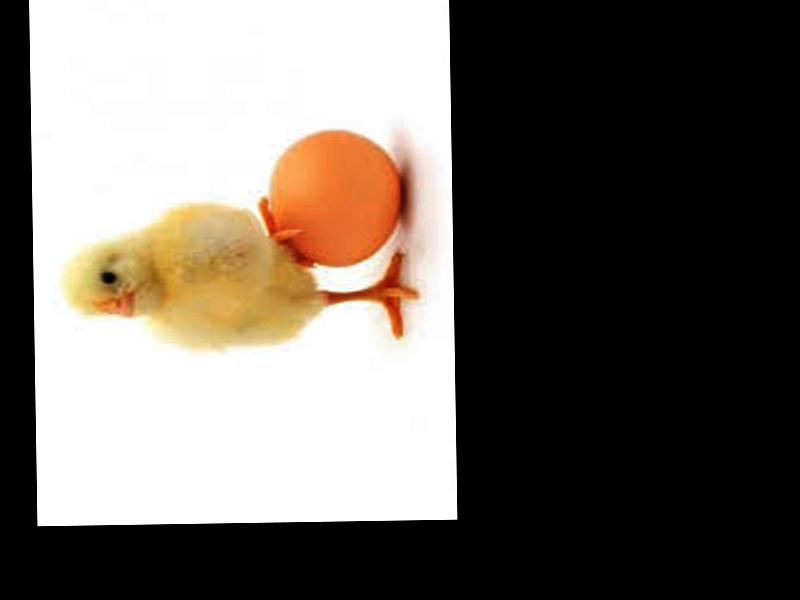Eggs: (262, 127, 402, 270)
